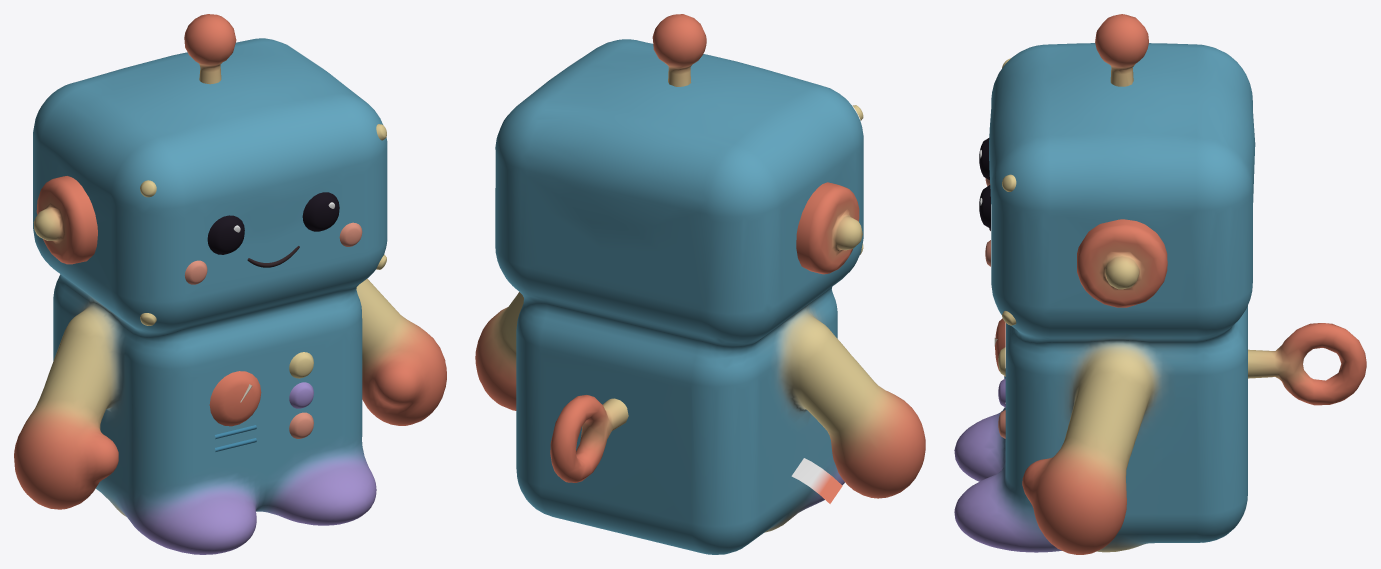
File: robot.glb
3 renders of one model, left to right at view 1: azimuth 30°, elevation 25°; view 2: azimuth 150°, elevation 25°; view 3: azimuth 270°, elevation 25°, orthographic. The views are drawn at different scales.
Visible parts, largest first — view 1: LOD0; view 2: LOD0; view 3: LOD0.
Boxes of the visible parts, x1=… form: LOD0: x1=14, y1=14, x2=446, y2=554; LOD0: x1=475, y1=14, x2=925, y2=554; LOD0: x1=954, y1=14, x2=1366, y2=554.
Size of what is drawn, in the model's own units: 0.1961 by 0.2123 by 0.1607.
